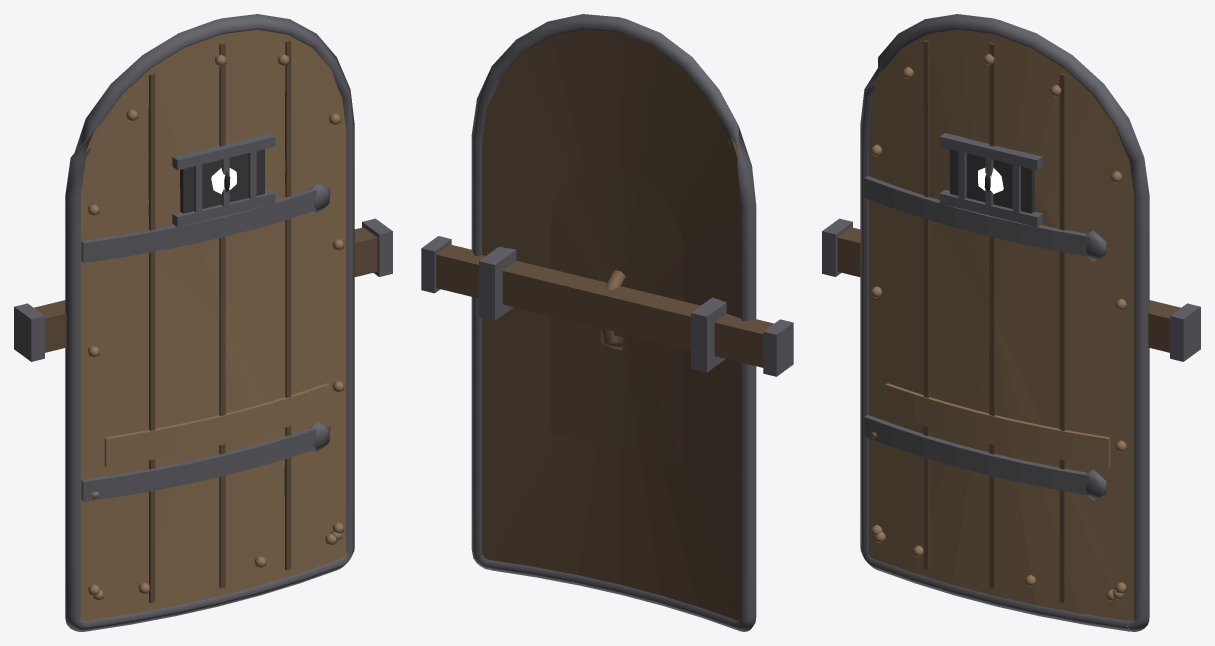
File: shield-gate.glb
The picture shows the model from 3 angles, left to right: view 1: azimuth 30°, elevation 25°; view 2: azimuth 150°, elevation 25°; view 3: azimuth 330°, elevation 25°; orthographic projection.
Visible parts, largest first — view 1: shield-gate; view 2: shield-gate; view 3: shield-gate.
Part boxes in pixels (x1,y1,x2,y2): shield-gate: (14,14,392,631); shield-gate: (421,14,793,631); shield-gate: (822,14,1200,631).
Size of the model in its own units: 1.2 by 1.86 by 0.2282.
